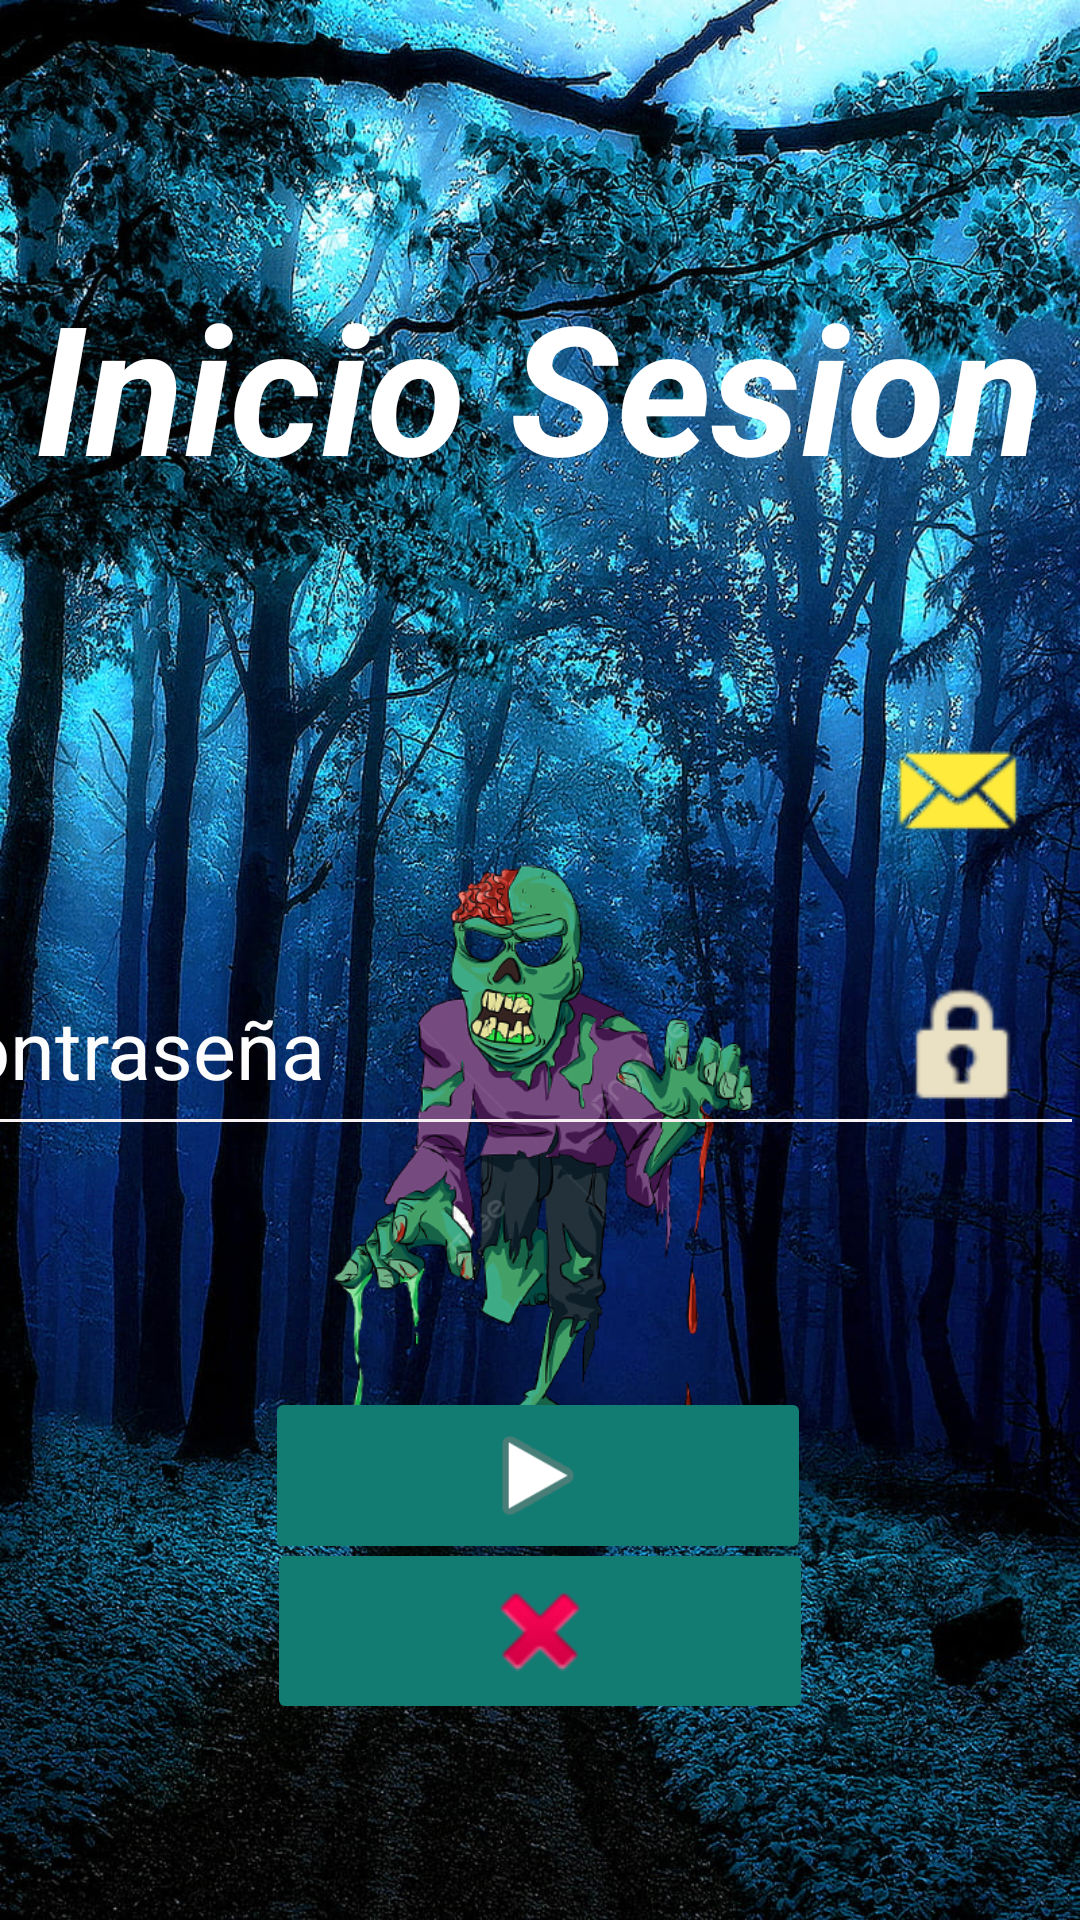

Where to tap for icons on this 1080*1920 app screen, as (x=x, y=y):
lock idle: (x=966, y=1048)
sym action email: (x=959, y=792)
